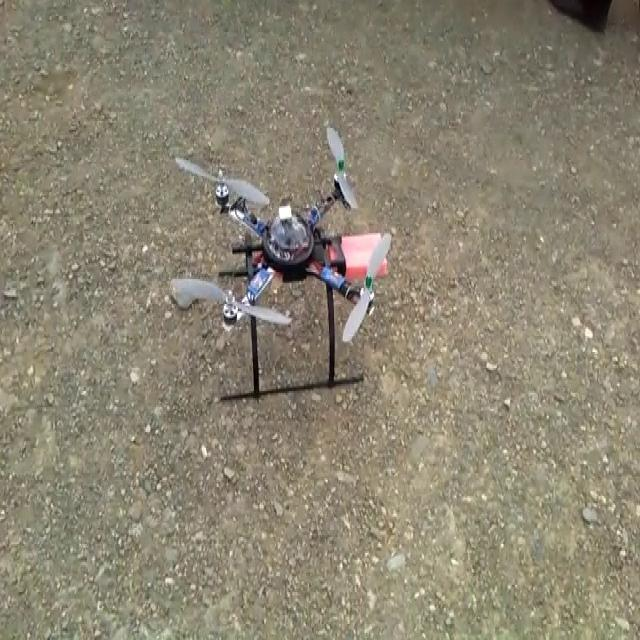drone: (167, 122, 392, 418)
